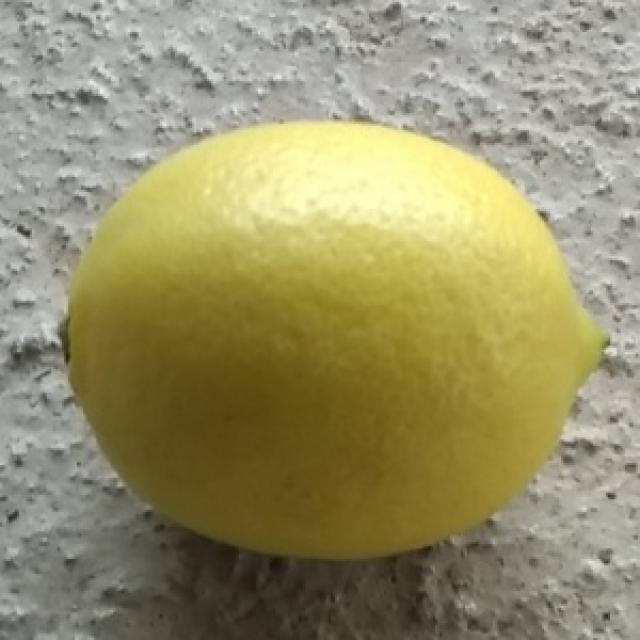Lemon: (60, 119, 608, 564)
